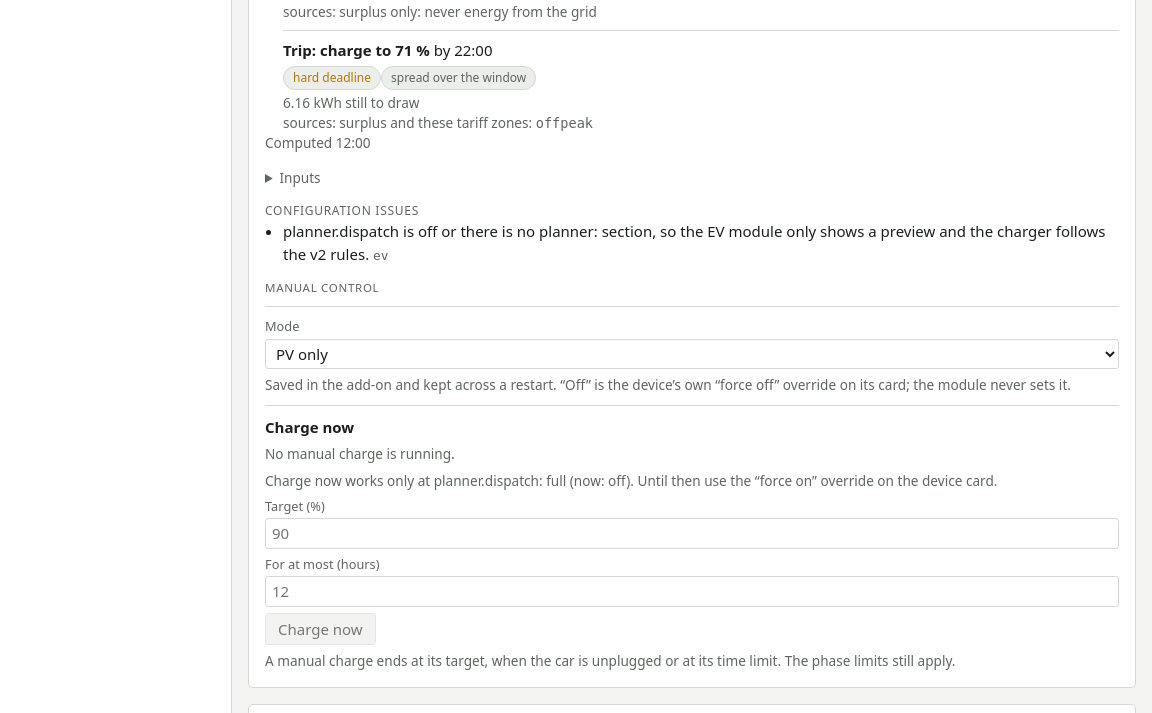
Scenario: EV card: the manual control (S6) › words a refusal of the mode and goes back to what the add-on holds
(page scrolled)
Select "Full charge" in the dropdown labelled "Mode" at x=692, y=354, box [265, 338, 1119, 368]
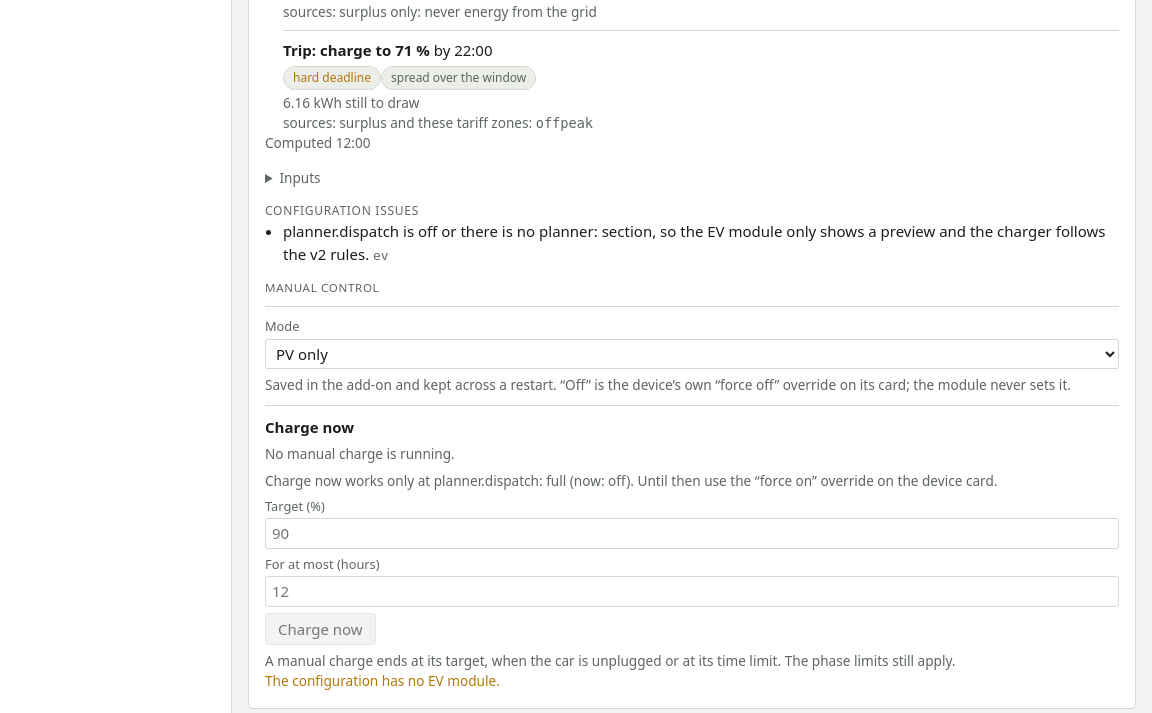
Expected: the message "The configuration has no EV module." is shown, [265, 672, 500, 690]
